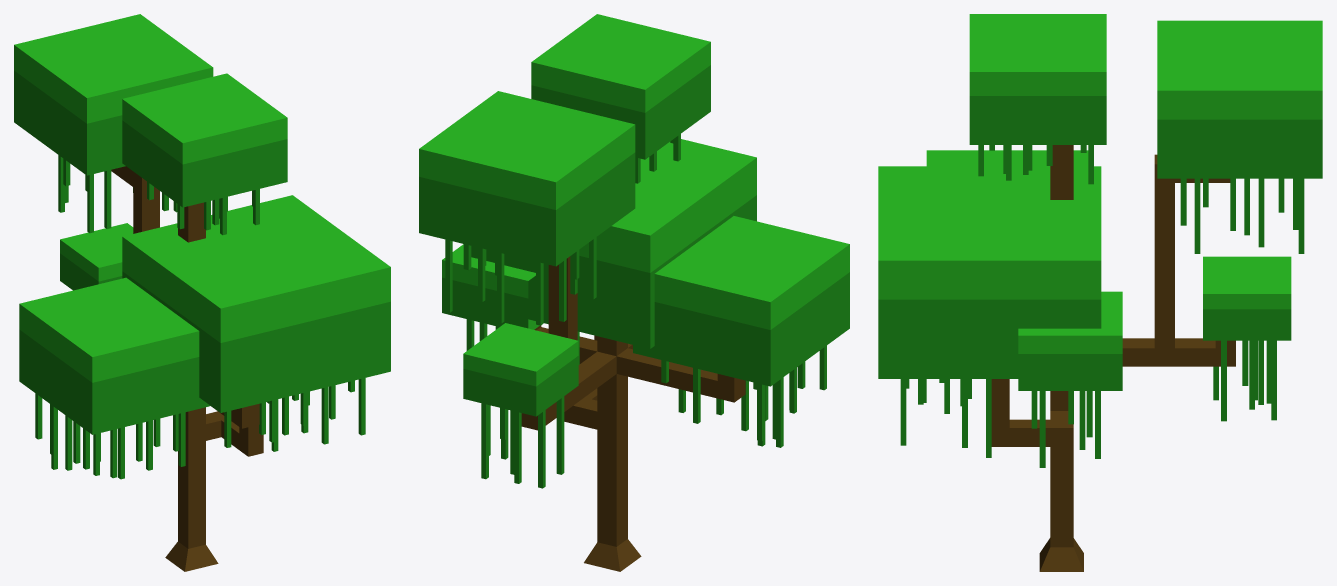
Rendered from cryingtree4.obj.
3 views of the same model, side by side, from view 1: azimuth 30°, elevation 25°; view 2: azimuth 150°, elevation 25°; view 3: azimuth 270°, elevation 25° (orthographic). The views are drawn at different scales.
Parts seen in each view (by area): view 1: cryingtree4_Cube.095; view 2: cryingtree4_Cube.095; view 3: cryingtree4_Cube.095.
Part boxes in pixels (bbox=[...]): cryingtree4_Cube.095: bbox=[14, 14, 390, 571]; cryingtree4_Cube.095: bbox=[419, 14, 849, 571]; cryingtree4_Cube.095: bbox=[878, 14, 1322, 571].
Bounding box in the file's own units: 13.49 × 20.46 × 15.81.
